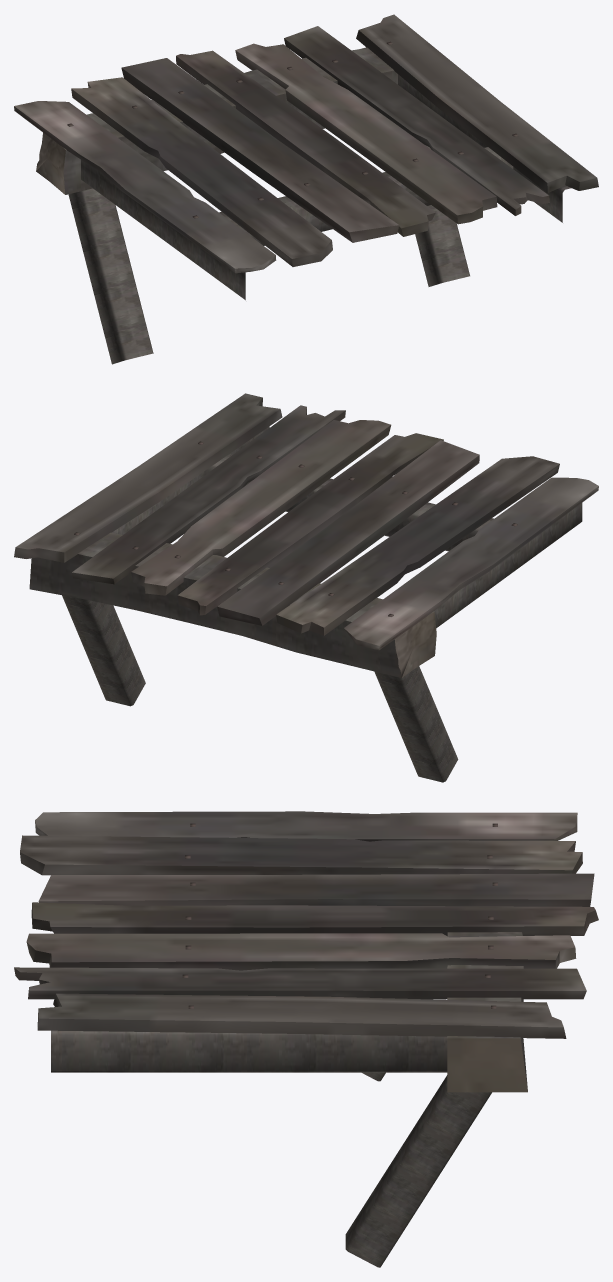
Rendered from AEG023_246out-transformed.glb.
3 views of the same model, one above another, from view 1: azimuth 30°, elevation 25°; view 2: azimuth 150°, elevation 25°; view 3: azimuth 270°, elevation 25° (orthographic). The views are drawn at different scales.
Visible parts, largest first — view 1: default; view 2: default; view 3: default.
Part boxes in pixels (x1,y1,x2,y2): default: (14, 14, 598, 364); default: (14, 393, 598, 782); default: (14, 811, 598, 1267).
Size of the model in its own units: 2.22 by 1.17 by 2.47.
Materials: 1 (1 with a texture image).
